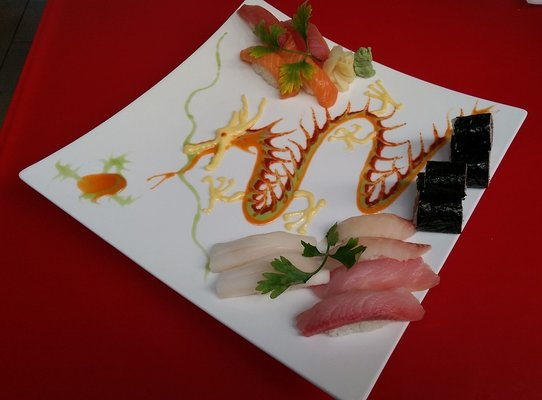curry: (3, 2, 541, 396)
